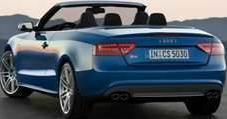back_view: (75, 31, 226, 102)
backlight: (89, 42, 139, 60)
